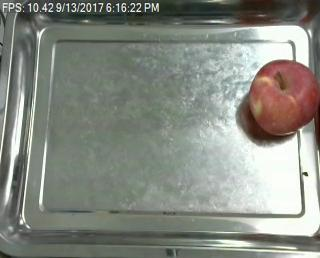apple: (248, 59, 318, 136)
